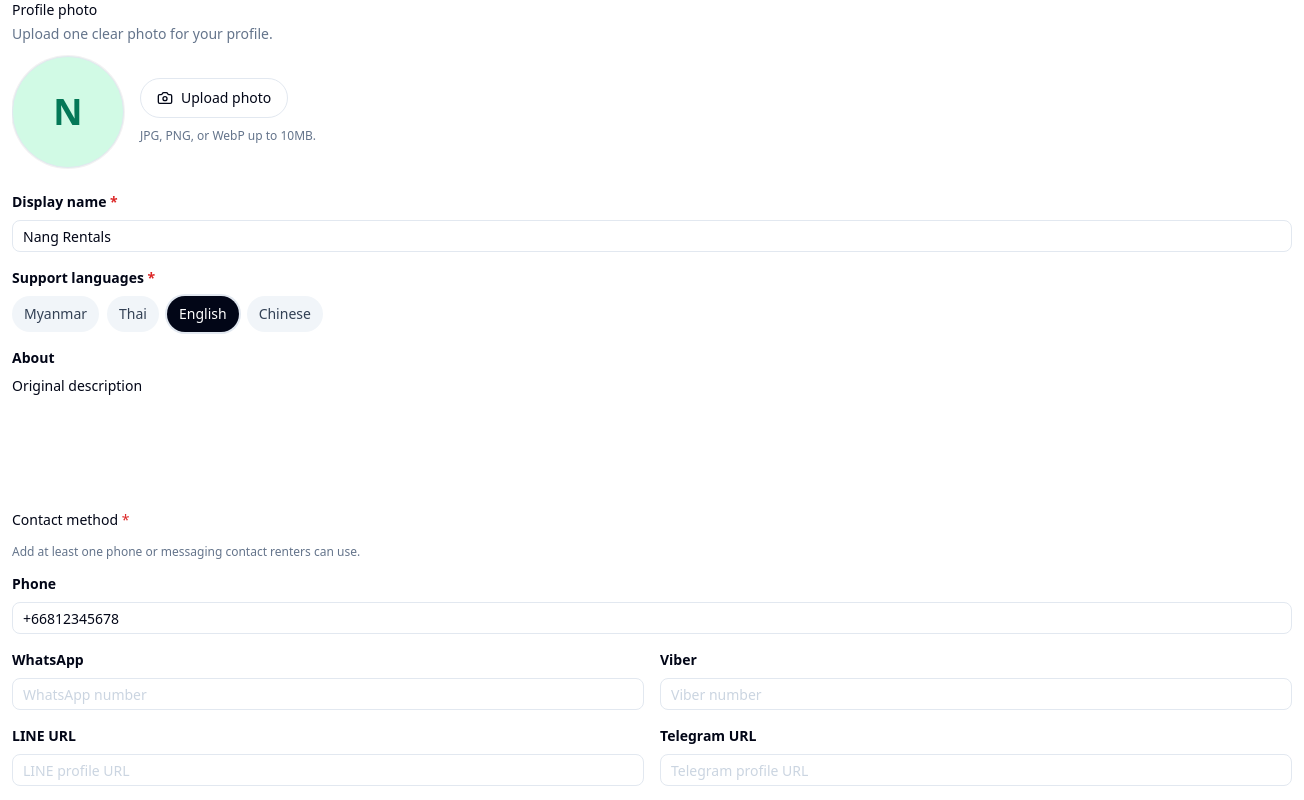
AgentProfileForm › submits only changed fields in edit mode
Replace the text in the text box labelled "About" with "Updated description": (652, 432) top-left (12, 376), bottom-right (1292, 488)
(page scrolled)
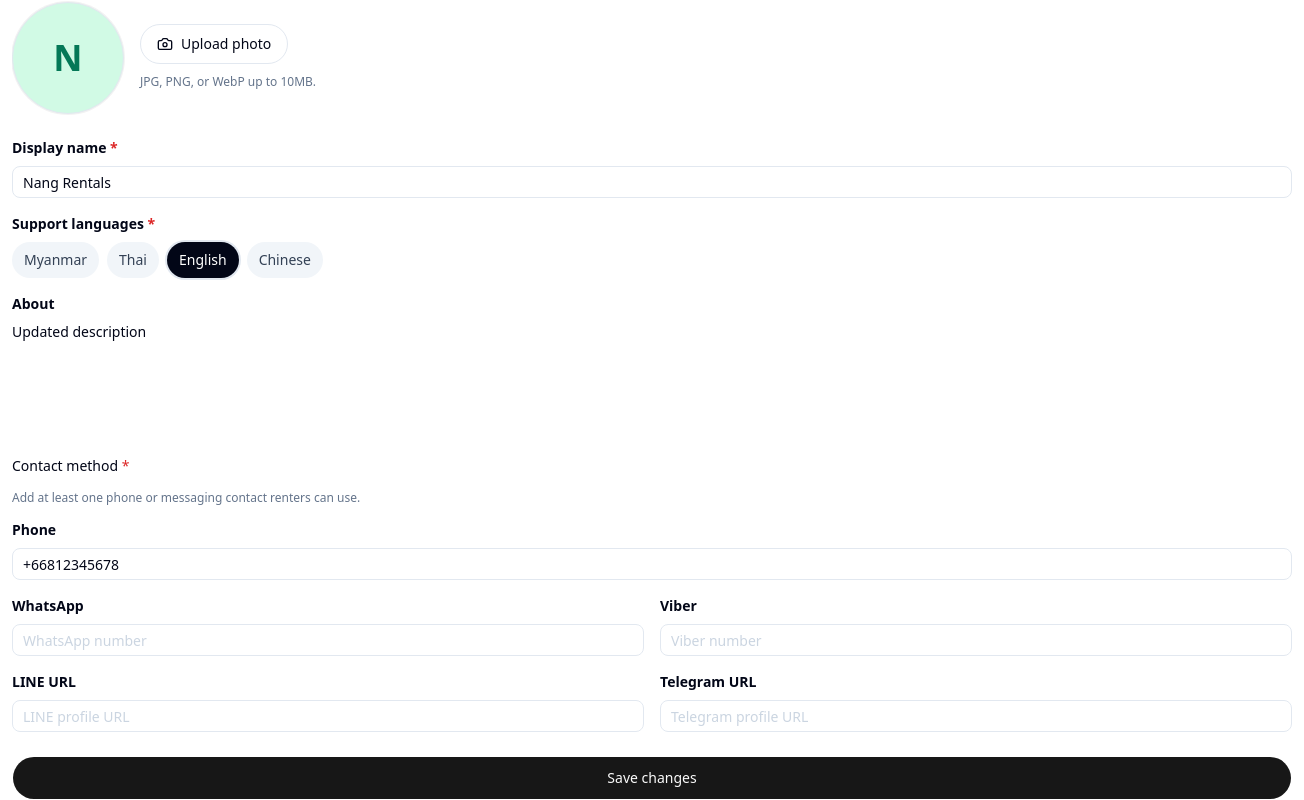
Click the button "Save changes": (652, 778) top-left (12, 756), bottom-right (1292, 799)
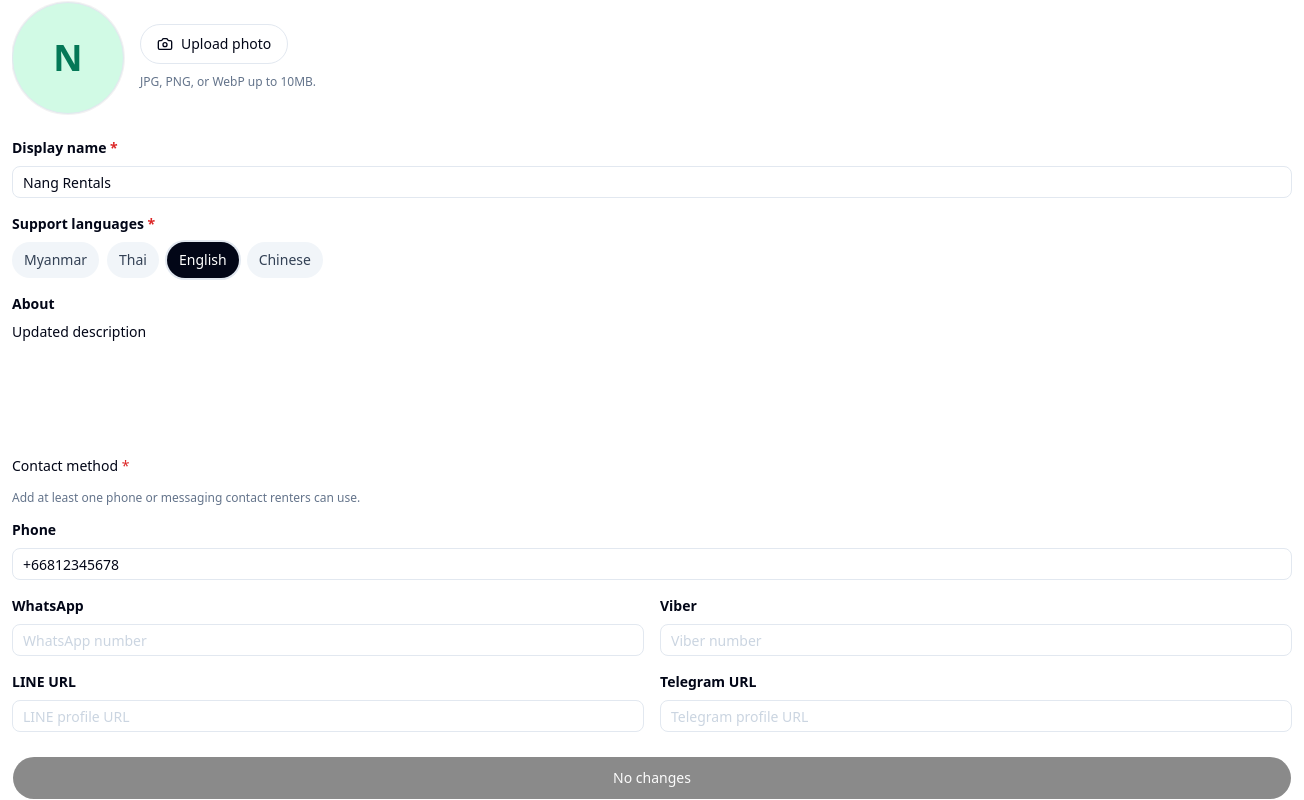
Now the button "No changes" is disabled, box top-left (12, 756), bottom-right (1292, 799)
